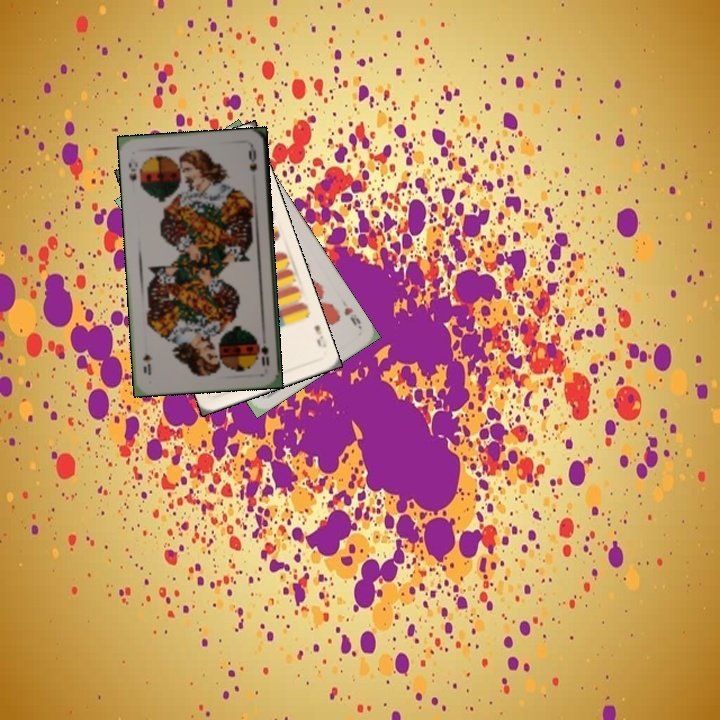E9: (310, 321, 329, 350)
H9: (340, 303, 364, 332)
SO: (255, 339, 272, 369), (124, 153, 140, 183)
